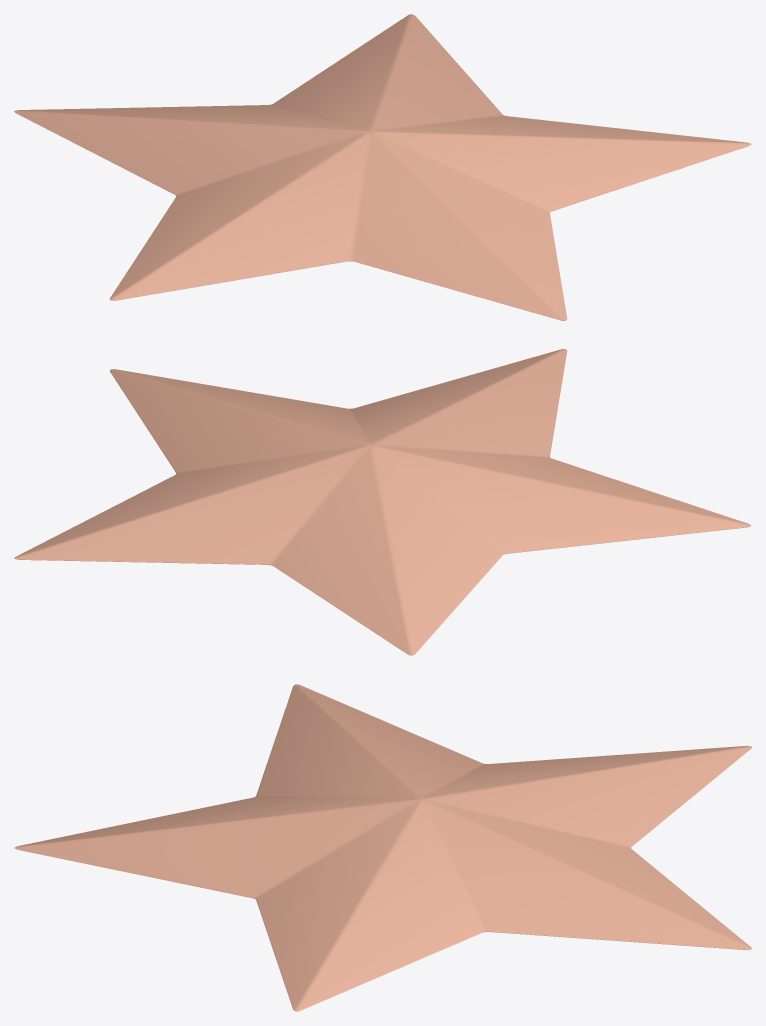
The model's file is trickStar.fbx.
3 views of the same model, one above another, from view 1: azimuth 30°, elevation 25°; view 2: azimuth 150°, elevation 25°; view 3: azimuth 270°, elevation 25° (orthographic). The views are drawn at different scales.
Parts seen in each view (by area): view 1: star_Gold_0; view 2: star_Gold_0; view 3: star_Gold_0.
Part boxes in pixels (x1,y1,x2,y2): star_Gold_0: [14, 14, 751, 320]; star_Gold_0: [14, 349, 751, 655]; star_Gold_0: [14, 684, 751, 1011].
Bounding box in the file's own units: 190 × 26.21 × 181.
